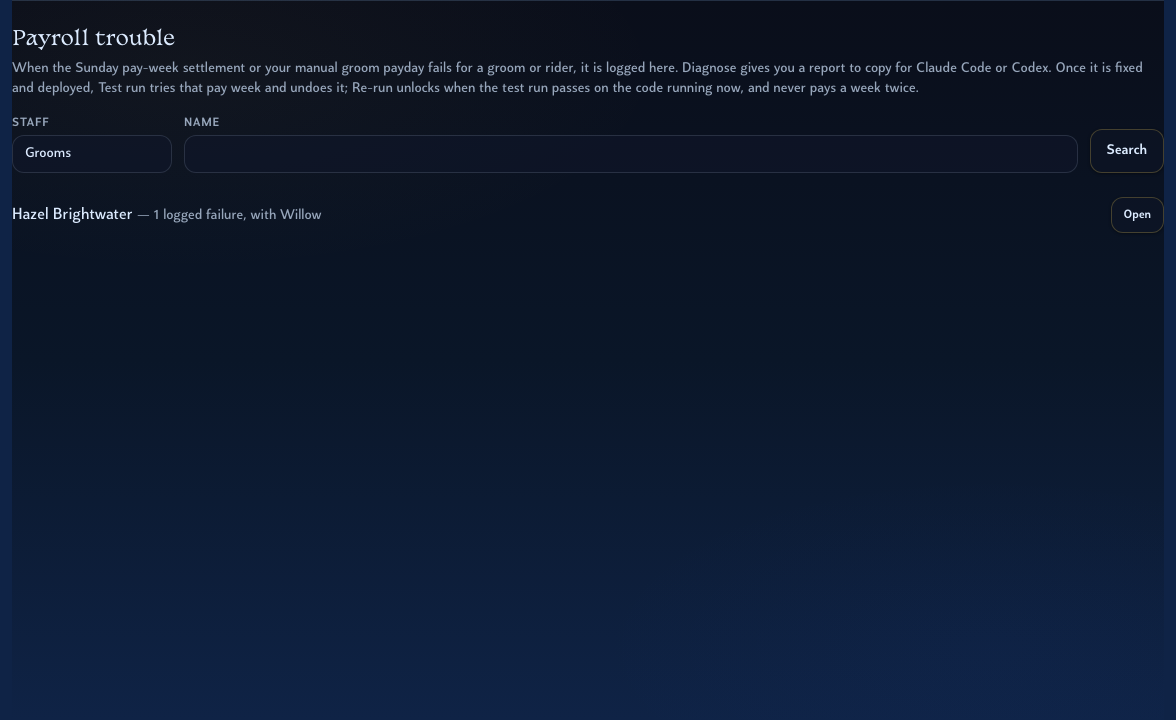
Scenario: StaffPayrollDiagnostics › a refused re-run explains at the button, never the server text
Click the button with aria-label "Open Hazel Brightwater": {"x": 1137, "y": 215} [1111,197,1164,233]
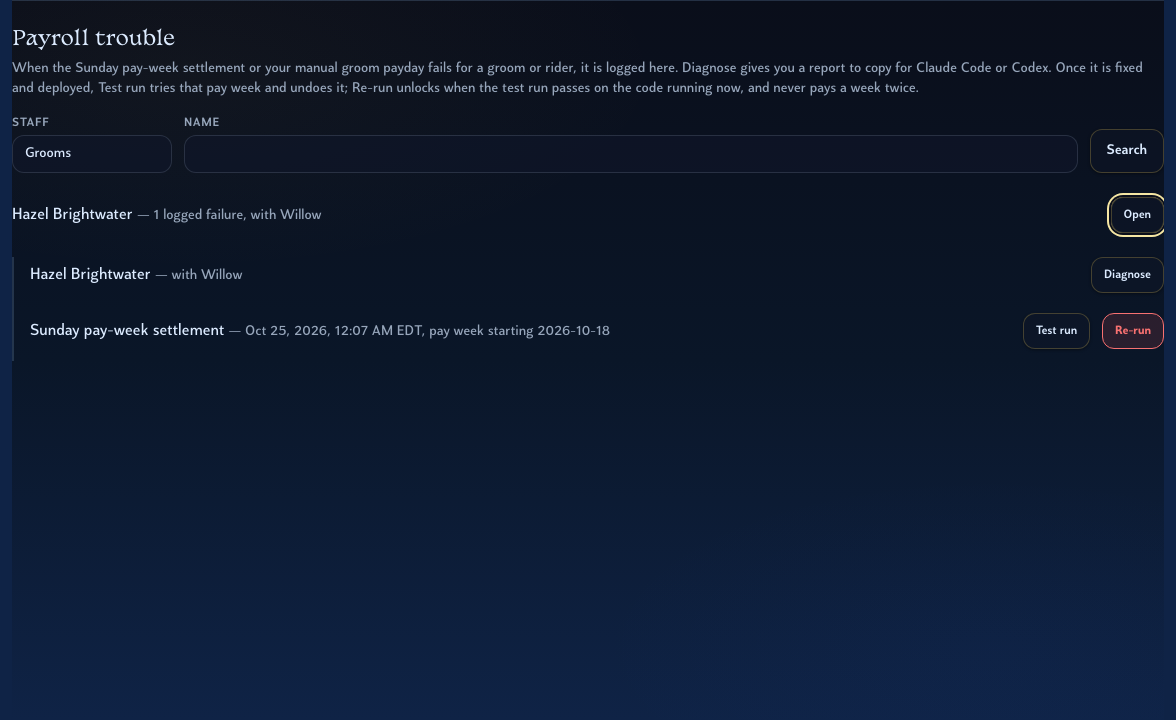
Click the button with aria-label "Re-run the sunday": {"x": 1133, "y": 331} [1102,313,1164,349]
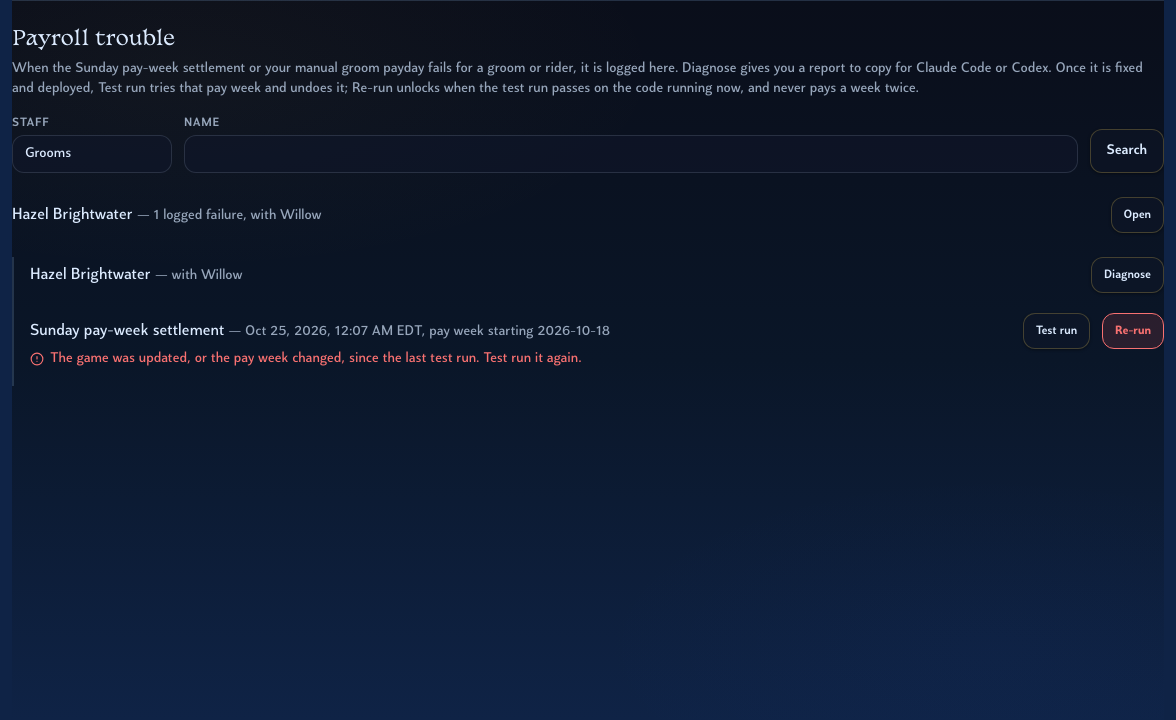
Expected: the text "since the last test run. Test run it again." is shown, [50,351,582,366]
